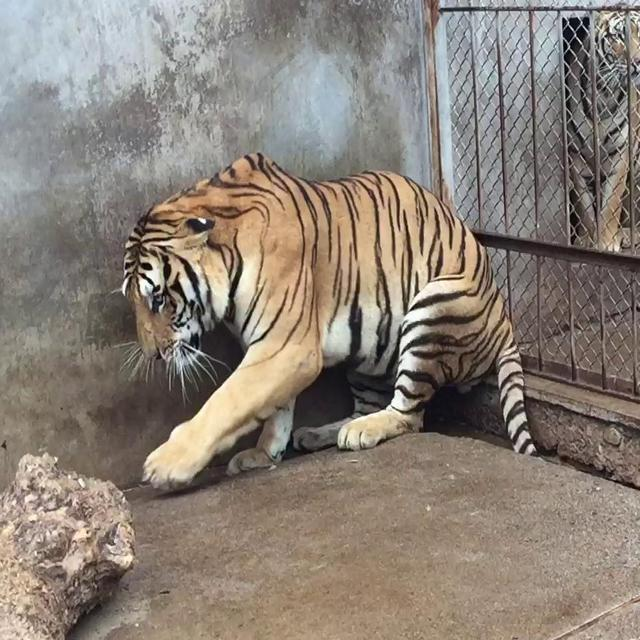tiger: (114, 129, 560, 496)
